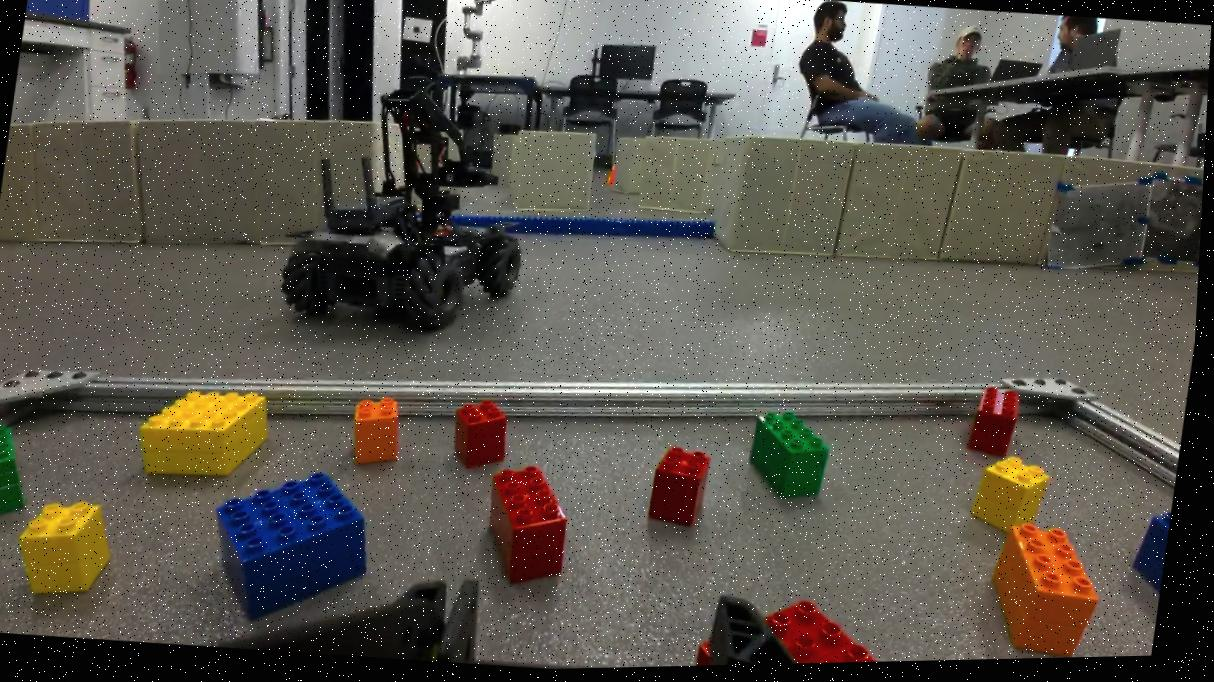2x2lego: (15, 492, 122, 600), (973, 456, 1058, 541), (651, 445, 719, 532), (453, 395, 515, 473), (352, 393, 410, 466)
2x4lego: (990, 519, 1114, 664), (482, 459, 583, 593), (747, 407, 843, 511), (1133, 510, 1178, 626), (967, 388, 1031, 466)
4x4lego: (203, 458, 384, 636), (136, 379, 278, 488)
